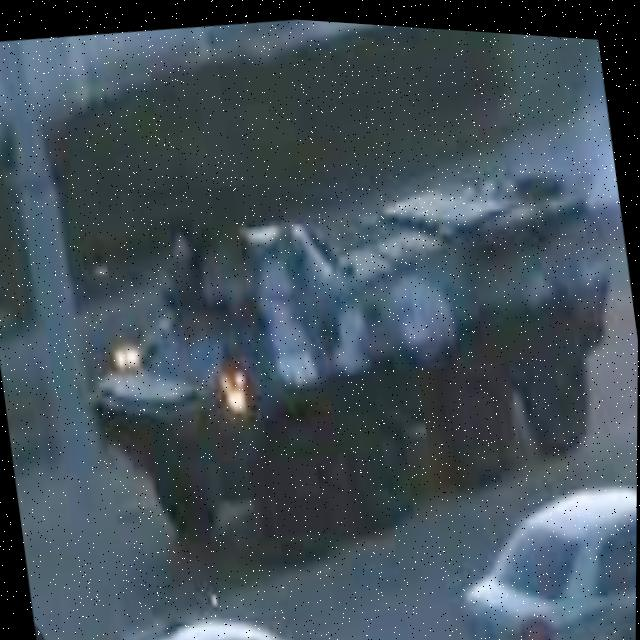MIL_APC: (79, 142, 639, 553)
